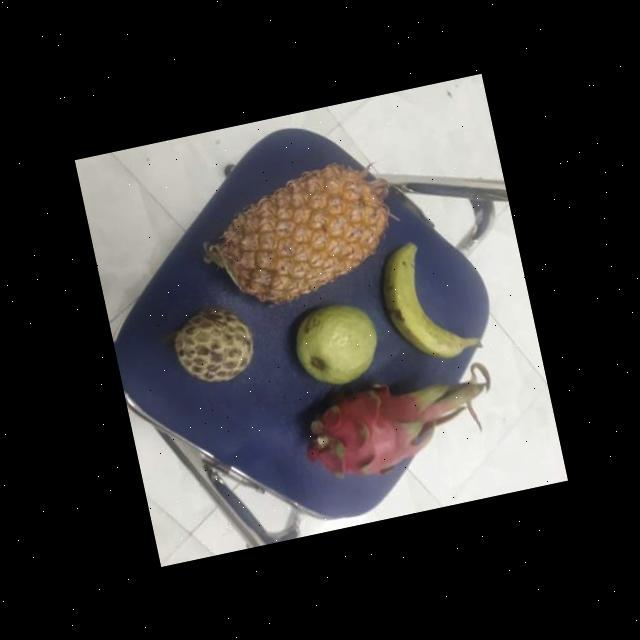Sakya fruit: (166, 295, 260, 390)
banana: (371, 232, 472, 366)
guava: (286, 292, 384, 392)
pineapple: (198, 149, 401, 315)
pitaya: (297, 363, 457, 488)
